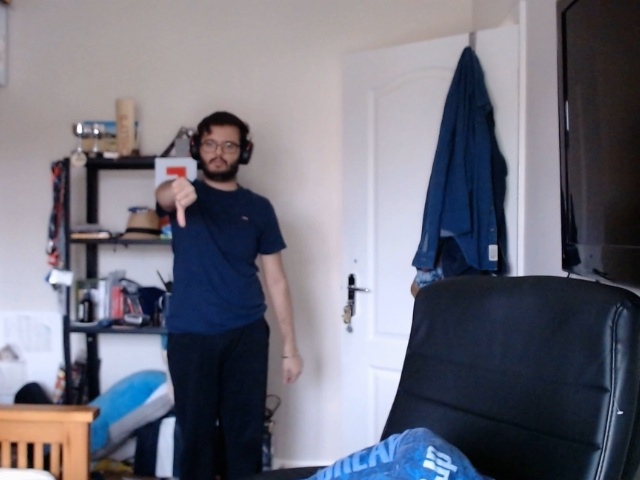Thumbs down: (164, 175, 203, 236)
